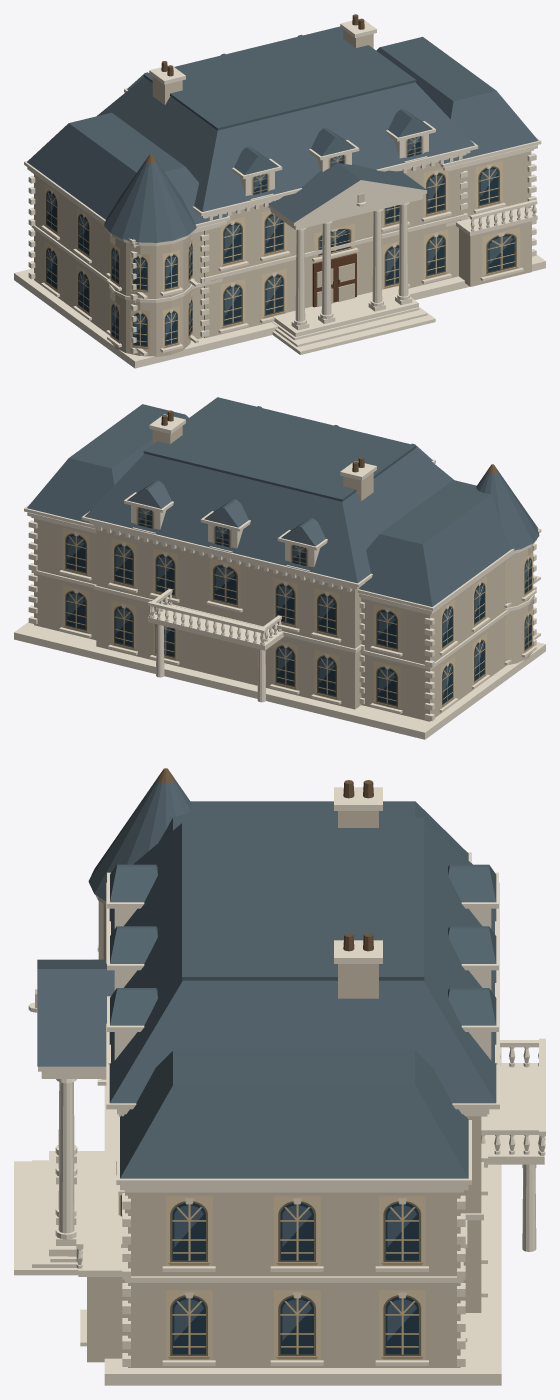
File: mansion-01.glb
3 views of the same model, one above another, from view 1: azimuth 30°, elevation 25°; view 2: azimuth 150°, elevation 25°; view 3: azimuth 270°, elevation 25° (orthographic). The views are drawn at different scales.
Parts seen in each view (by area): view 1: Carved ivory stone, Arched divided-light glazing; view 2: Carved ivory stone, Arched divided-light glazing; view 3: Carved ivory stone, Arched divided-light glazing.
Part boxes in pixels (box(x1,y1,x2,y2)): Carved ivory stone: box(14, 14, 545, 368); Arched divided-light glazing: box(44, 135, 520, 349); Carved ivory stone: box(14, 397, 545, 739); Arched divided-light glazing: box(62, 506, 533, 709); Carved ivory stone: box(14, 768, 545, 1385); Arched divided-light glazing: box(166, 1196, 425, 1360).
Bounding box in the file's own units: 27.1 × 13.7 × 18.22.
Materials: 2 (2 with a texture image).
